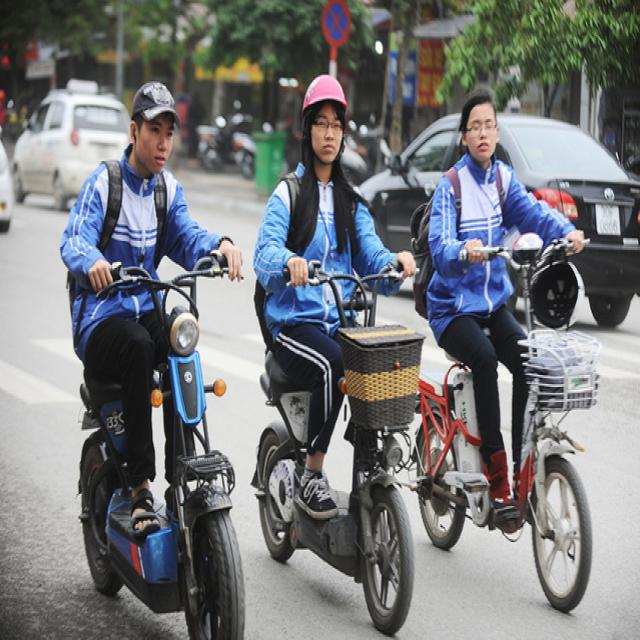helmet: (301, 73, 348, 118)
no_helmet: (454, 71, 504, 173), (131, 80, 181, 129)
